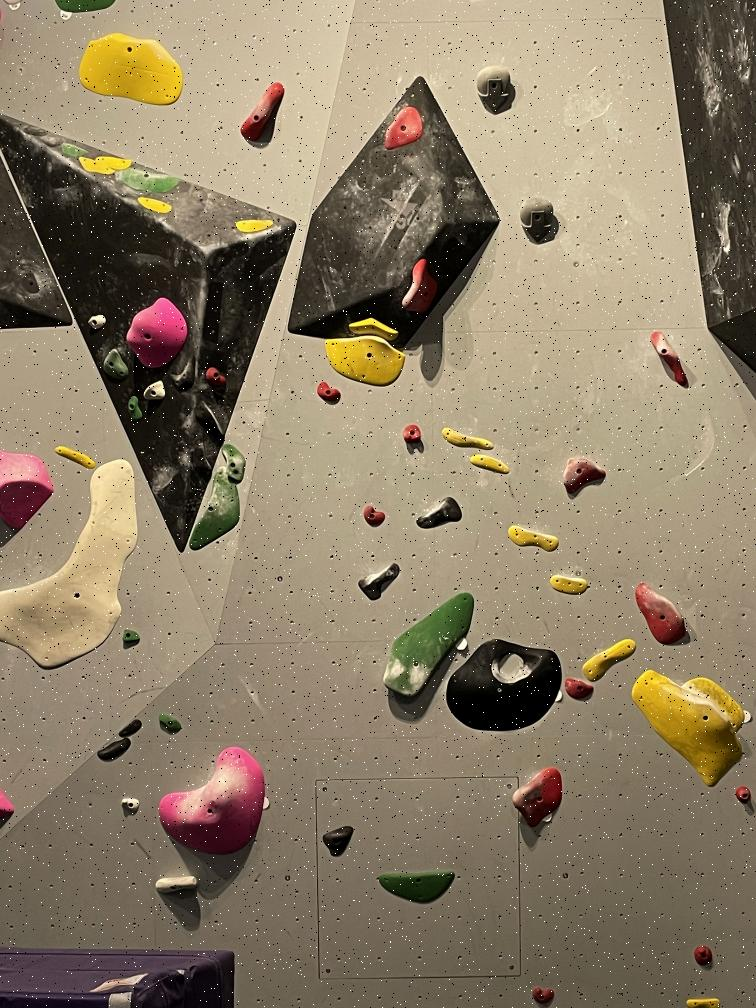Crimp: (0, 458, 140, 668), (359, 562, 399, 602), (414, 498, 466, 528), (436, 427, 496, 452), (386, 107, 423, 147), (507, 526, 558, 550), (197, 402, 224, 438), (471, 453, 513, 476), (97, 738, 134, 762), (78, 155, 117, 176), (550, 575, 592, 594), (564, 679, 594, 702), (96, 155, 134, 171), (115, 720, 146, 738), (686, 998, 720, 1008), (60, 143, 88, 155)
Edges: (187, 464, 241, 553), (374, 866, 458, 902), (580, 635, 638, 683), (119, 168, 179, 193), (53, 443, 96, 472), (234, 218, 276, 234), (137, 195, 173, 213), (122, 798, 142, 814)
Foothold: (322, 826, 356, 860), (156, 712, 183, 732), (318, 382, 340, 405), (362, 506, 388, 525), (692, 945, 714, 967), (205, 368, 230, 387), (119, 628, 142, 647), (532, 988, 556, 1005), (407, 426, 424, 447), (736, 787, 754, 805), (88, 314, 106, 328)
Hand-holds: (153, 875, 204, 897), (221, 442, 248, 482)
Jug: (377, 587, 478, 695), (324, 318, 417, 387), (124, 298, 188, 368), (512, 766, 565, 829), (634, 582, 687, 645), (400, 260, 444, 310), (517, 196, 555, 242), (477, 66, 513, 114), (558, 458, 613, 488), (100, 350, 132, 377), (142, 381, 168, 400)
Pinch: (240, 81, 286, 142), (646, 330, 688, 390), (128, 393, 141, 421)
Pocket: (441, 638, 564, 736)
Sloper: (630, 668, 748, 788), (158, 746, 265, 855), (80, 31, 183, 110), (0, 446, 55, 536), (171, 356, 198, 390)
